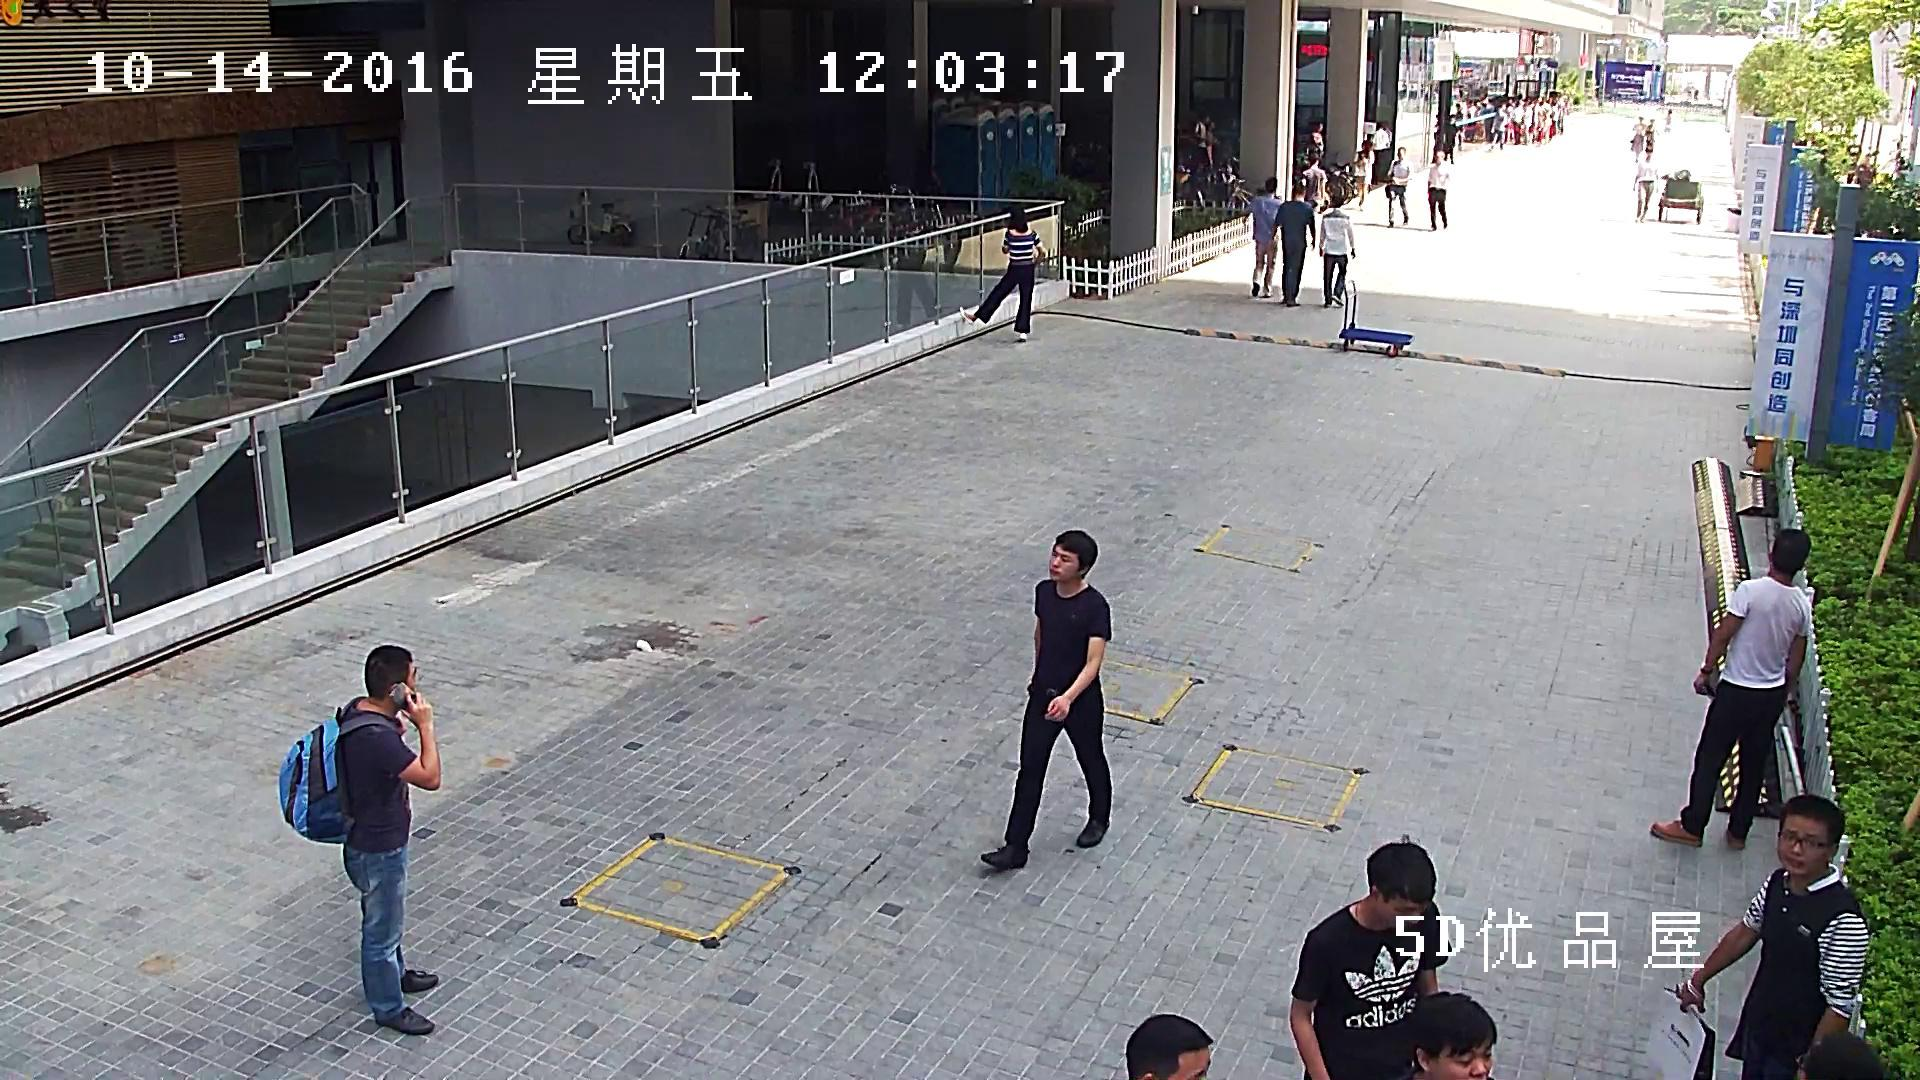person: (278, 644, 441, 1035), (1647, 794, 1868, 1080), (1650, 528, 1812, 847), (981, 530, 1111, 867), (1289, 842, 1452, 1080), (960, 205, 1043, 342), (1242, 176, 1282, 297), (1275, 184, 1315, 306), (1319, 196, 1355, 307), (896, 250, 939, 331), (1384, 147, 1411, 228), (1633, 147, 1658, 222), (1427, 150, 1449, 231), (1300, 153, 1327, 216), (1353, 140, 1374, 206), (1370, 122, 1389, 184), (1194, 115, 1210, 167), (1487, 105, 1506, 150), (1856, 152, 1876, 187), (1308, 121, 1324, 168), (1630, 116, 1646, 162), (1511, 101, 1524, 145), (1206, 121, 1219, 168), (1444, 114, 1454, 163), (1645, 118, 1656, 160), (1455, 103, 1462, 150), (1524, 100, 1532, 145)
